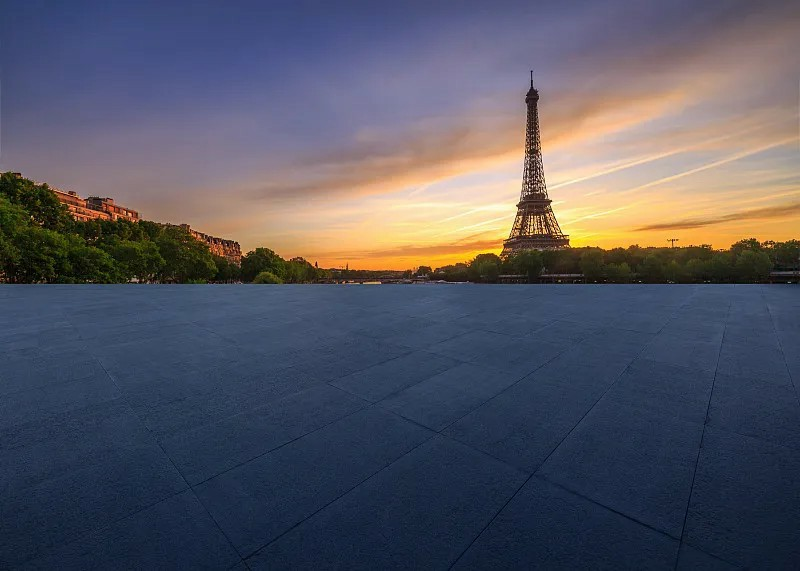Eiffel: (498, 68, 570, 265)
